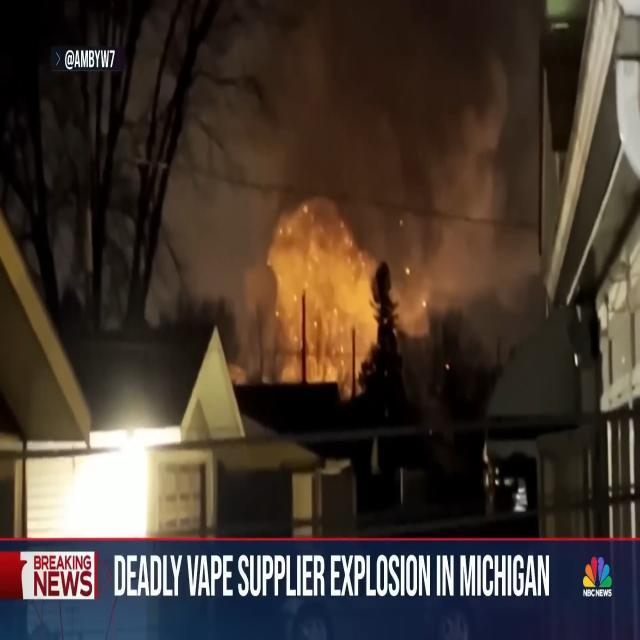fire: (256, 199, 420, 408)
